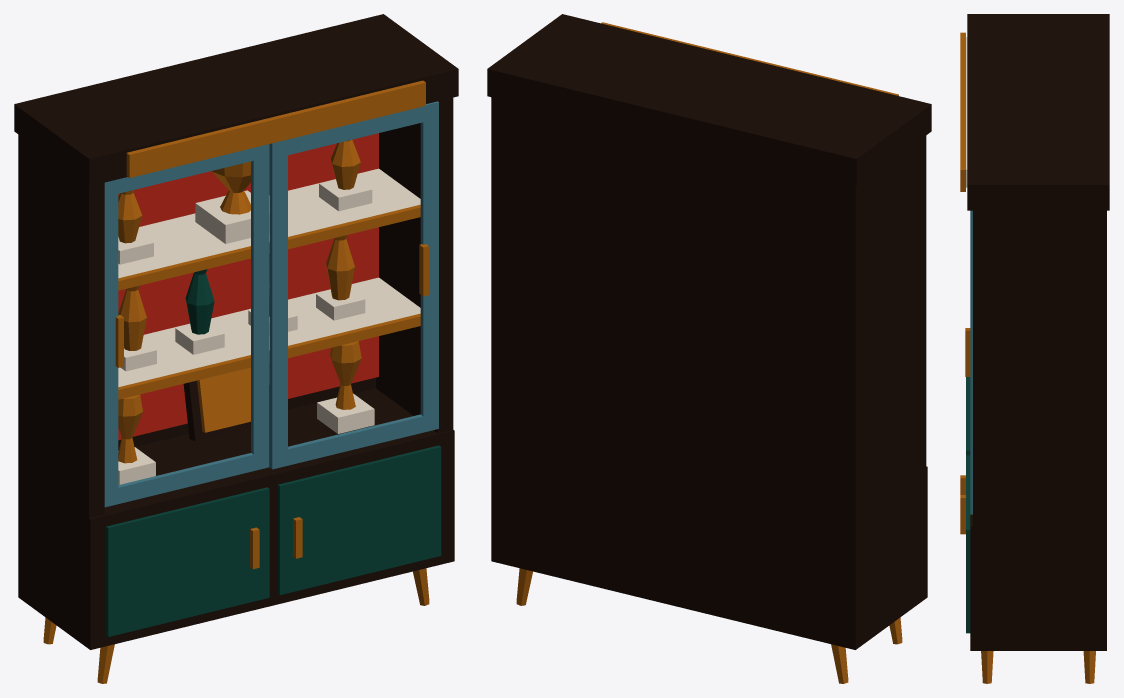
File: cozy_bowling_trophy_case.obj
3 renders of one model, left to right at view 1: azimuth 30°, elevation 25°; view 2: azimuth 150°, elevation 25°; view 3: azimuth 270°, elevation 25°, orthographic. The views are drawn at different scales.
Parts seen in each view (by area): view 1: TrophyCase_Mesh; view 2: TrophyCase_Mesh; view 3: TrophyCase_Mesh.
Part boxes in pixels (left/top/right/bottom): TrophyCase_Mesh: left=14, top=14, right=458, bottom=683; TrophyCase_Mesh: left=487, top=14, right=931, bottom=683; TrophyCase_Mesh: left=960, top=14, right=1109, bottom=683.
Bounding box in the file's own units: 1.42 × 1.97 × 0.525.
